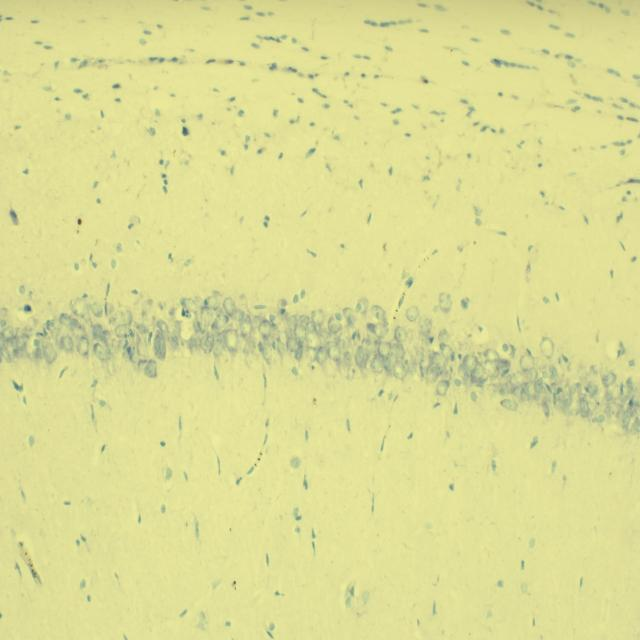neuron: (169, 305, 197, 323), (225, 329, 239, 358), (154, 331, 167, 361), (276, 332, 290, 358), (554, 390, 572, 410), (70, 297, 87, 318), (179, 320, 196, 340), (567, 391, 580, 416), (402, 372, 416, 394), (540, 337, 554, 359), (180, 298, 200, 313), (306, 330, 321, 350), (24, 334, 38, 355), (462, 354, 478, 372), (72, 318, 85, 340), (457, 364, 470, 386), (199, 333, 214, 352), (240, 316, 254, 336), (166, 333, 179, 354), (237, 333, 250, 354), (484, 360, 500, 377), (509, 371, 525, 388), (519, 355, 535, 372), (211, 315, 229, 330), (393, 360, 407, 379), (500, 398, 519, 412), (200, 306, 213, 326), (426, 364, 439, 384), (439, 292, 452, 312), (535, 386, 548, 406), (432, 351, 448, 367), (114, 323, 131, 338), (483, 348, 500, 363), (258, 320, 272, 338), (311, 308, 325, 326), (316, 345, 328, 366), (327, 344, 341, 362), (318, 326, 332, 344), (328, 316, 342, 334), (371, 304, 385, 322), (419, 333, 431, 354), (585, 381, 599, 399), (618, 385, 632, 403), (93, 342, 106, 361), (287, 333, 300, 352), (577, 363, 588, 385), (59, 335, 74, 351), (138, 360, 154, 375), (355, 346, 365, 370), (364, 352, 376, 372), (392, 343, 407, 359), (44, 346, 58, 363), (55, 328, 69, 345), (377, 341, 391, 358), (145, 360, 158, 378), (294, 324, 306, 343), (374, 322, 388, 338), (394, 326, 408, 342), (418, 315, 432, 331), (406, 305, 419, 322), (77, 337, 88, 357), (631, 383, 640, 407), (137, 336, 147, 357), (206, 295, 220, 310), (218, 330, 228, 351), (304, 347, 318, 362), (602, 372, 616, 387), (622, 407, 632, 428), (223, 298, 234, 317), (238, 294, 249, 313), (541, 396, 550, 419), (580, 397, 589, 420), (372, 357, 384, 374), (471, 362, 483, 379), (262, 343, 273, 361), (230, 308, 244, 322), (6, 337, 18, 353), (121, 310, 133, 326), (436, 380, 448, 396), (587, 396, 597, 415), (442, 345, 453, 362), (2, 326, 15, 340), (25, 318, 38, 332), (568, 382, 581, 396), (59, 312, 71, 327), (106, 356, 115, 376), (342, 352, 351, 372), (438, 329, 450, 344), (615, 405, 625, 423), (630, 416, 639, 436), (0, 347, 11, 363), (92, 302, 103, 318), (357, 298, 368, 314), (214, 339, 224, 356), (548, 363, 558, 380), (498, 359, 511, 372), (512, 386, 525, 399), (156, 319, 168, 333), (498, 373, 512, 385), (529, 367, 538, 385), (414, 350, 424, 366), (522, 368, 532, 384), (608, 400, 618, 416), (387, 352, 398, 366), (408, 358, 417, 375), (534, 376, 543, 393), (13, 345, 23, 360), (287, 315, 297, 330), (366, 338, 376, 353), (520, 388, 530, 403), (100, 330, 112, 342), (295, 344, 304, 360), (603, 405, 613, 419), (298, 314, 310, 325), (306, 321, 317, 333), (52, 317, 62, 330), (93, 324, 102, 338), (382, 356, 391, 370), (405, 328, 414, 342), (603, 390, 614, 401), (42, 336, 48, 356), (342, 308, 352, 320), (537, 358, 547, 370), (626, 376, 634, 390), (334, 310, 343, 322), (336, 338, 345, 349), (506, 380, 513, 394), (34, 346, 41, 359), (0, 308, 9, 318), (541, 370, 551, 379), (0, 335, 5, 351), (111, 339, 116, 354), (597, 414, 605, 423), (439, 342, 446, 351)
